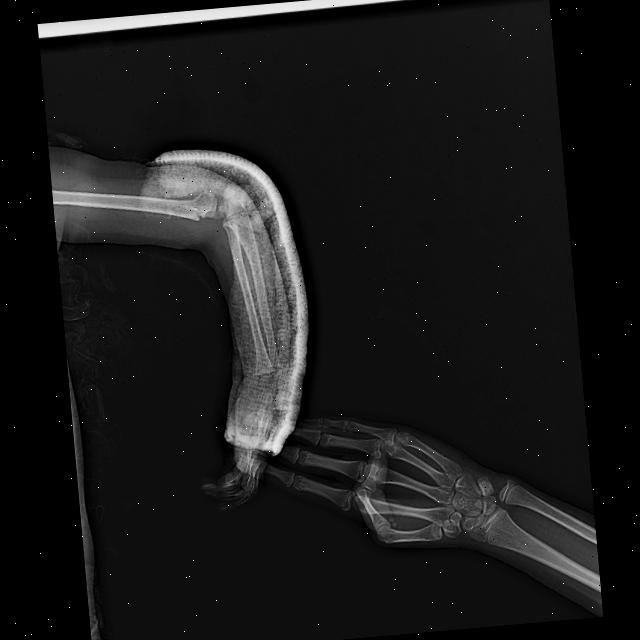Fracture: (175, 201, 205, 222)
